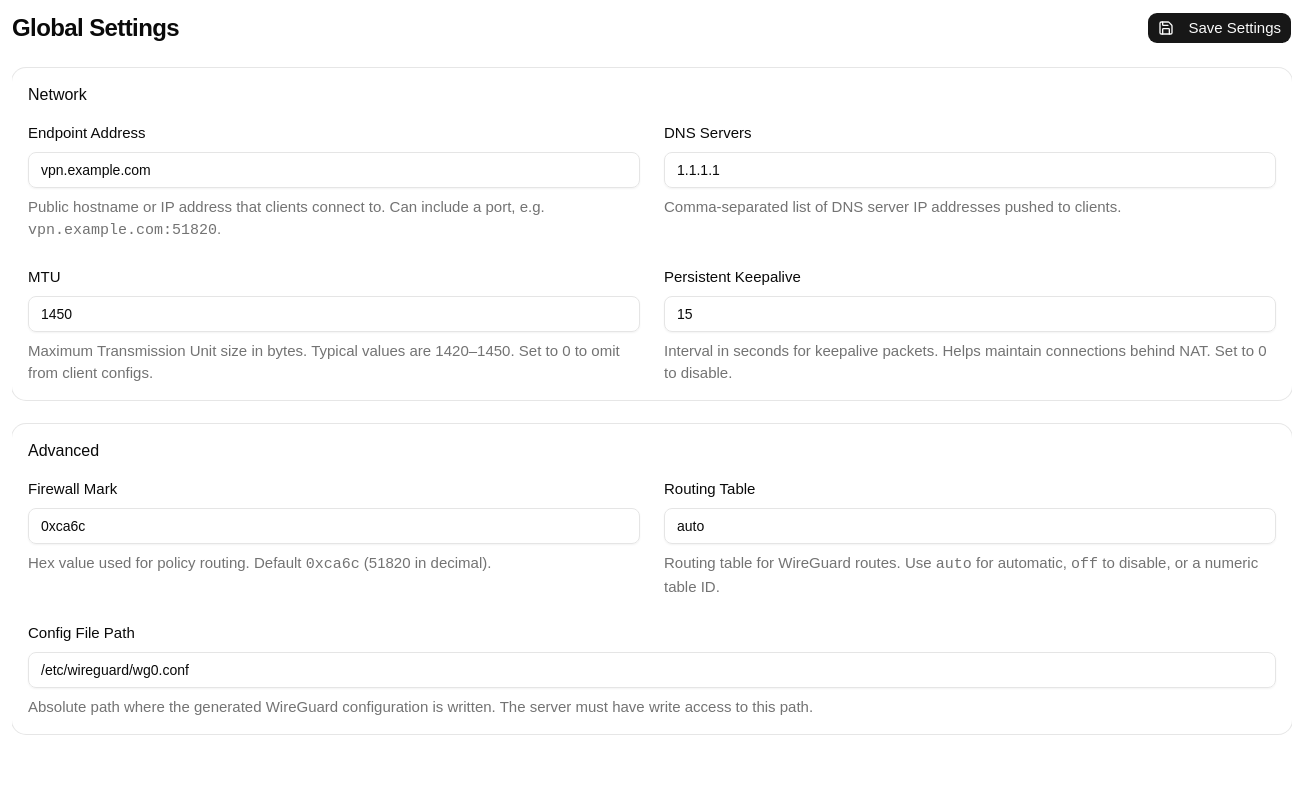
Test: SettingsPage interactions › shows validation error for empty endpoint
Clear the field showing "vpn.example.com" at (334, 170), box [28,152,640,188]
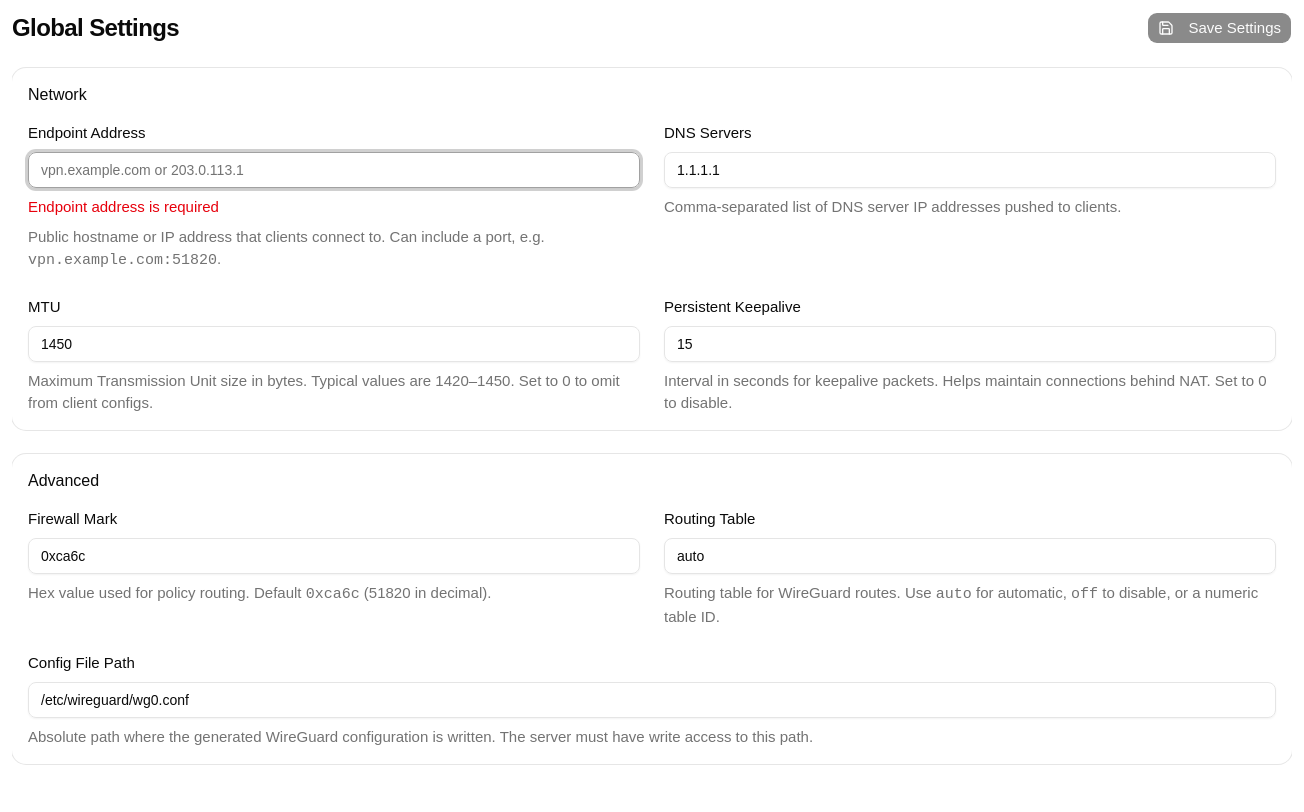
expect the text "Endpoint address is required" is shown: met, box [28,198,219,215]
